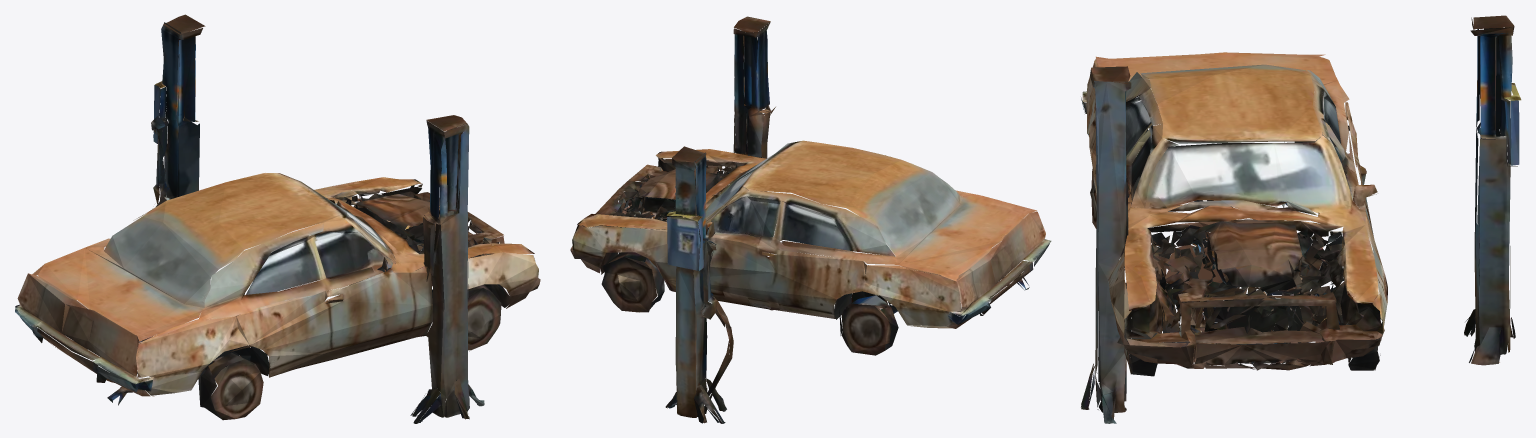
Rendered from service-bay-lift.glb.
3 renders of one model, left to right at view 1: azimuth 30°, elevation 25°; view 2: azimuth 150°, elevation 25°; view 3: azimuth 270°, elevation 25°, orthographic. The views are drawn at different scales.
Parts seen in each view (by area): view 1: tmp2l_y8v08.ply; view 2: tmp2l_y8v08.ply; view 3: tmp2l_y8v08.ply.
Boxes of the visible parts, x1=… form: tmp2l_y8v08.ply: x1=15, y1=14, x2=540, y2=423; tmp2l_y8v08.ply: x1=570, y1=16, x2=1051, y2=423; tmp2l_y8v08.ply: x1=1081, y1=15, x2=1521, y2=423.
Bounding box in the file's own units: 4 × 2.5 × 3.
1 material, 1 textured.
